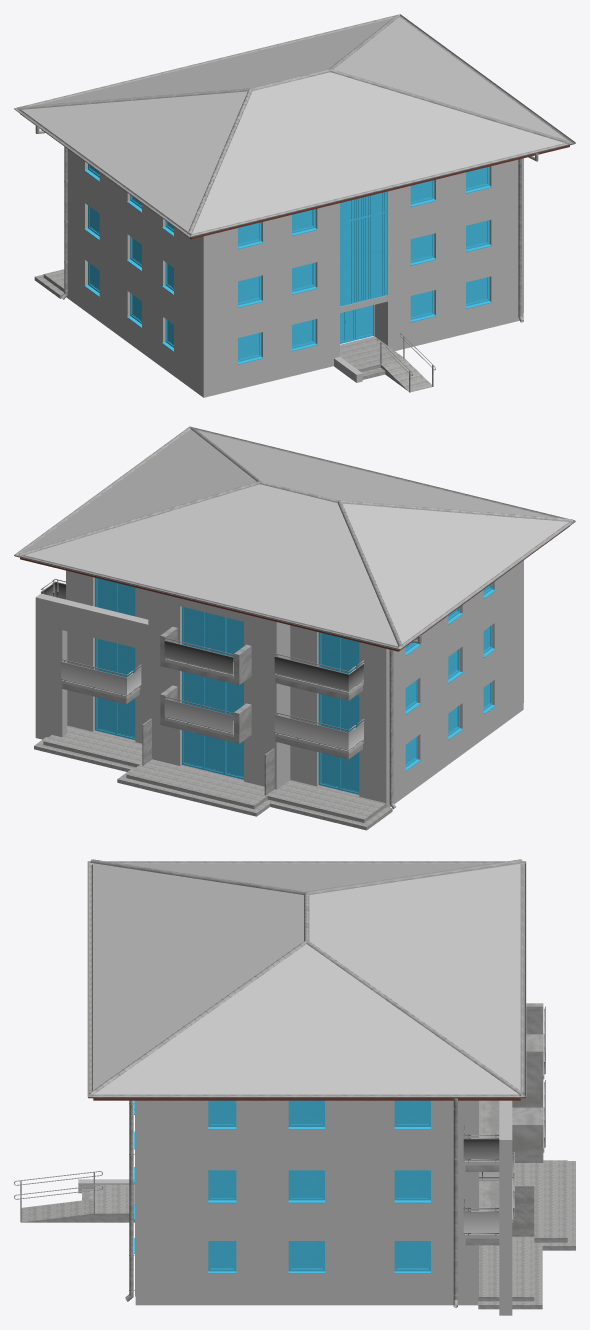
File: casa.obj
3 renders of one model, top to bottom at view 1: azimuth 30°, elevation 25°; view 2: azimuth 150°, elevation 25°; view 3: azimuth 270°, elevation 25°, orthographic. The views are drawn at different scales.
Parts seen in each view (by area): view 1: roof, building, window_029, window_front, gutters_000, cover_roof_003, terrace, gutters_002, window_039, wood_balls; view 2: roof, building, window_029, terrace, barrels, balcony, gutters_000, cover_roof_003, balcony_cover, wood_balls, split, gutters_002; view 3: roof, building, terrace, window_029, gutters_000, balcony, cover_roof_003, barrels, gutters_002, wood_balls, split, barrels_front (+1 smaller).
Part boxes in pixels (box(x1,y1,x2,y2)): roof: box(21, 17, 567, 233); building: box(66, 149, 523, 397); window_029: box(84, 164, 491, 364); window_front: box(340, 191, 387, 306); gutters_000: box(14, 14, 575, 237); cover_roof_003: box(17, 15, 570, 234); terrace: box(34, 269, 431, 391); gutters_002: box(35, 125, 538, 322); window_039: box(340, 305, 373, 343); wood_balls: box(20, 114, 569, 239); roof: box(23, 429, 568, 646); building: box(35, 560, 523, 807); window_029: box(95, 577, 495, 794); terrace: box(34, 725, 392, 830); barrels: box(40, 579, 364, 750); balcony: box(62, 626, 362, 759); gutters_000: box(14, 426, 575, 650); cover_roof_003: box(19, 427, 572, 646); balcony_cover: box(61, 658, 363, 754); wood_balls: box(20, 526, 569, 651); split: box(142, 718, 274, 795); gutters_002: box(389, 635, 421, 809); roof: box(93, 863, 520, 1094); building: box(135, 1100, 512, 1315); terrace: box(21, 1160, 575, 1309); window_029: box(134, 1100, 430, 1273); gutters_000: box(87, 861, 526, 1098); balcony: box(465, 1003, 543, 1245); cover_roof_003: box(89, 859, 524, 1095); barrels: box(463, 1006, 545, 1235); gutters_002: box(125, 1098, 458, 1307); wood_balls: box(93, 1098, 520, 1100); split: box(512, 1185, 534, 1236); barrels_front: box(14, 1171, 102, 1222).
Bounding box in the file's own units: 7.87 × 4.5 × 7.93.
